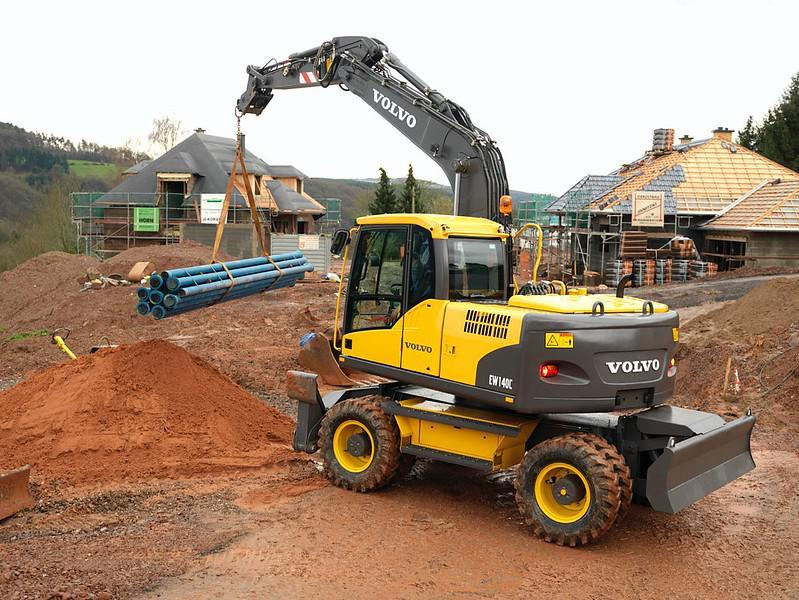EXCAVATORS: (235, 33, 761, 545)
